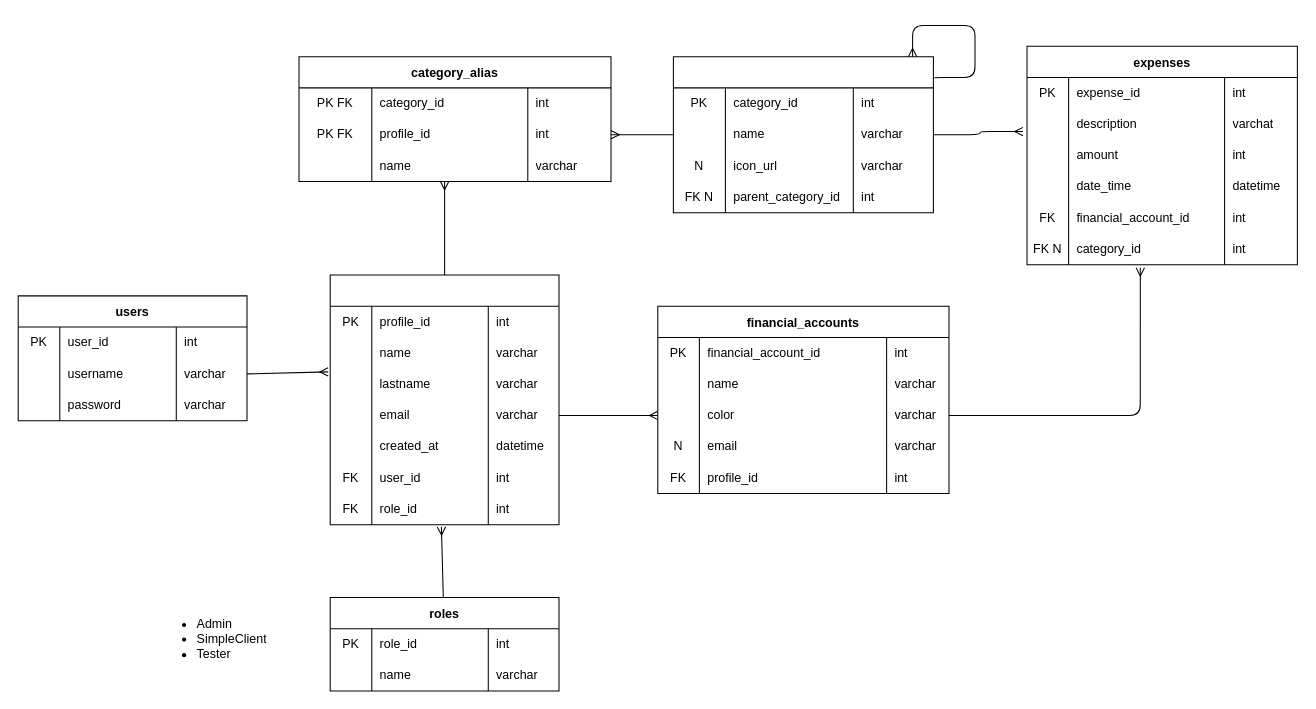
Some shapes in this 1316 by 709 pixel diagram are drawn without their labels. Each missing label, with the box of its shape:
categories: (672, 56, 933, 213)
profiles: (329, 274, 559, 525)
